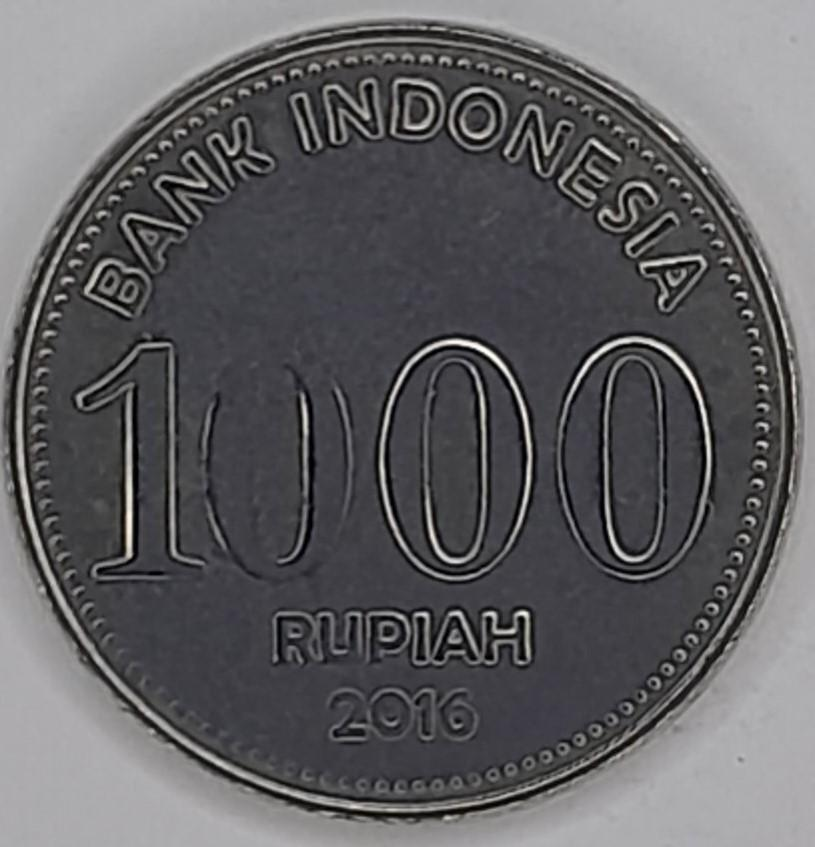coin_1000_e2016: (14, 17, 804, 847)
